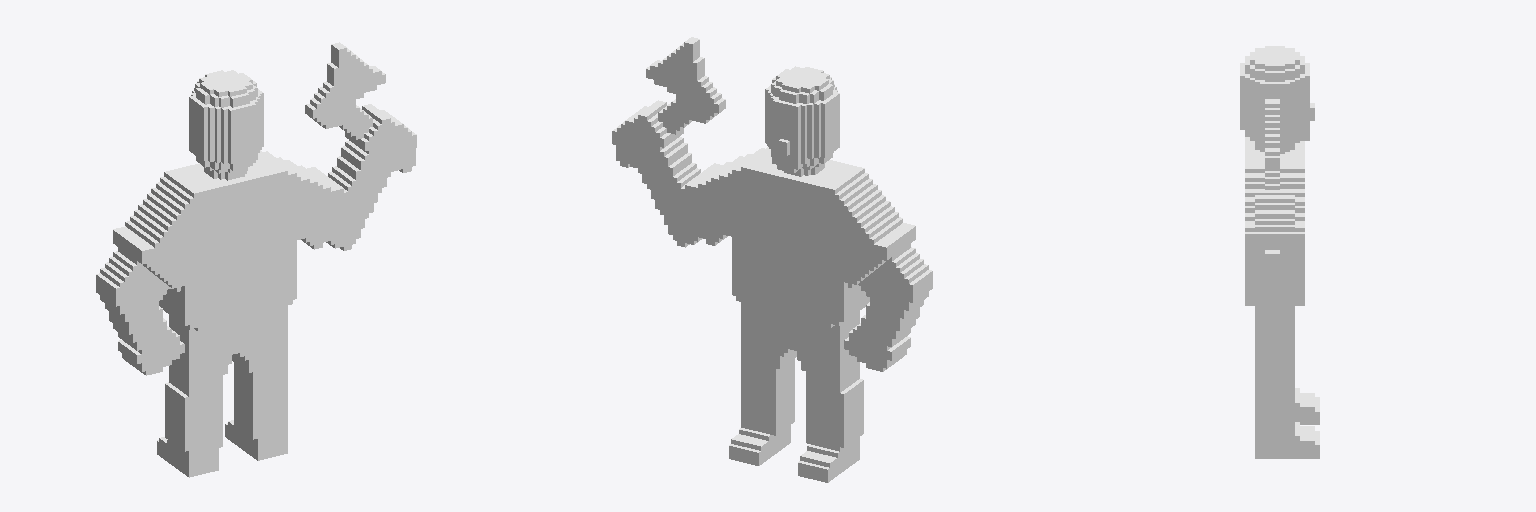
Rendered from player_lumber-0-player.obj.
The picture shows the model from 3 angles: view 1: azimuth 30°, elevation 25°; view 2: azimuth 150°, elevation 25°; view 3: azimuth 270°, elevation 25°; orthographic projection.
Parts seen in each view (by area): view 1: player; view 2: player; view 3: player.
Part boxes in pixels (bbox=[...]): player: bbox=[96, 42, 416, 477]; player: bbox=[612, 37, 932, 482]; player: bbox=[1240, 46, 1319, 458].
Bounding box in the file's own units: 7.1 × 8.6 × 1.6.